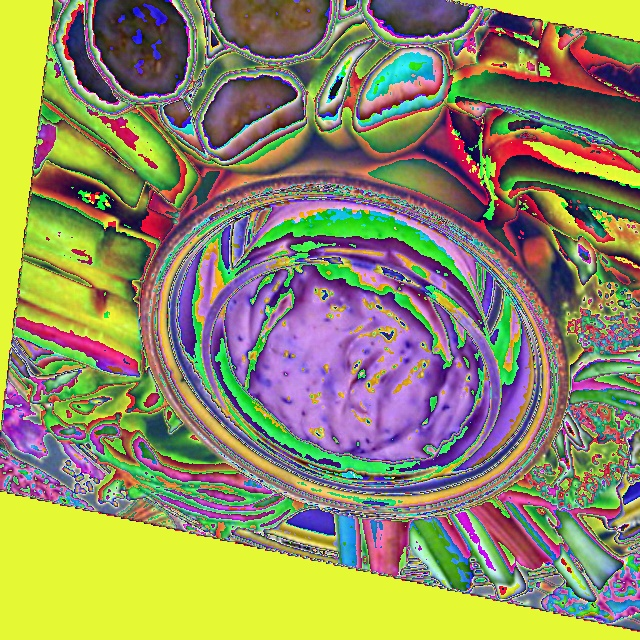background: (13, 0, 639, 604), (223, 199, 487, 464)
